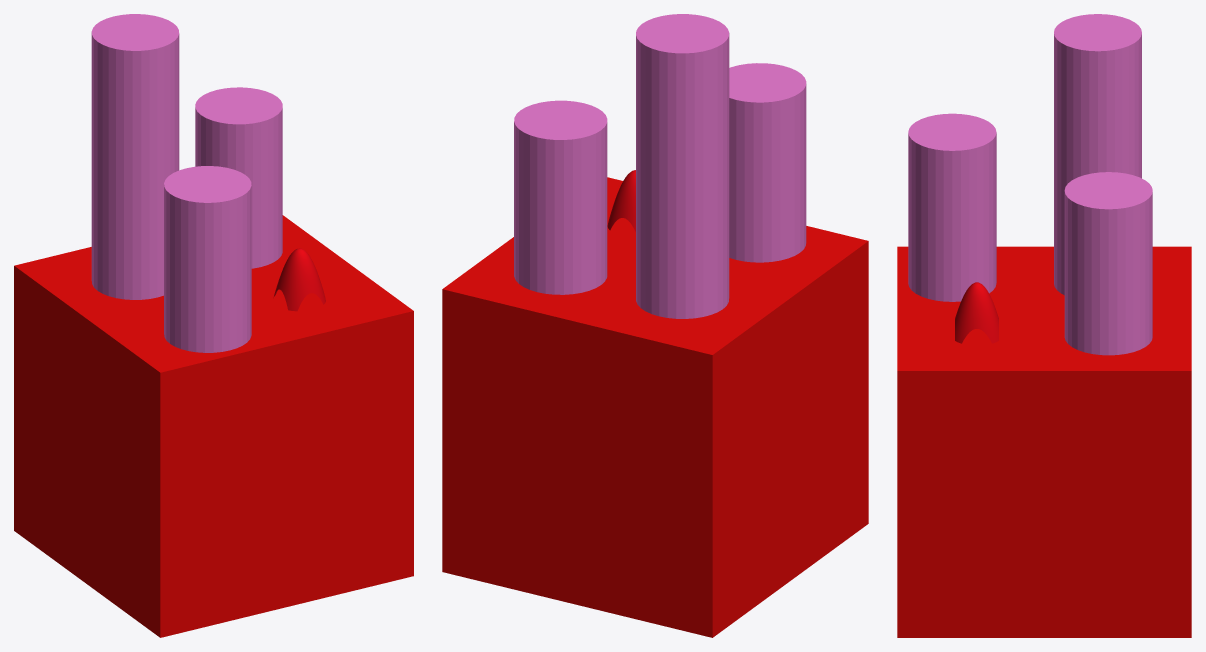
The model's file is redpower.glb.
3 views of the same model, side by side, from view 1: azimuth 30°, elevation 25°; view 2: azimuth 150°, elevation 25°; view 3: azimuth 270°, elevation 25° (orthographic). The views are drawn at different scales.
Parts seen in each view (by area): view 1: Cube, Cylinder, Cylinder.001, Cylinder.002, SurfPatch; view 2: Cube, Cylinder, Cylinder.002, Cylinder.001, SurfPatch; view 3: Cube, Cylinder.001, Cylinder.002, Cylinder, SurfPatch.
Part boxes in pixels (bbox=[...]): Cube: bbox=[14, 215, 413, 637]; Cylinder: bbox=[91, 14, 179, 299]; Cylinder.001: bbox=[164, 166, 251, 352]; Cylinder.002: bbox=[195, 87, 282, 268]; SurfPatch: bbox=[273, 248, 325, 311]; Cube: bbox=[442, 177, 868, 637]; Cylinder: bbox=[636, 14, 729, 318]; Cylinder.002: bbox=[514, 100, 607, 294]; Cylinder.001: bbox=[729, 63, 806, 262]; SurfPatch: bbox=[607, 170, 635, 231]; Cube: bbox=[897, 246, 1191, 637]; Cylinder.001: bbox=[908, 113, 996, 301]; Cylinder.002: bbox=[1064, 172, 1152, 355]; Cylinder: bbox=[1054, 14, 1141, 295]; SurfPatch: bbox=[955, 282, 998, 343].
Bounding box in the file's own units: 6.68 × 12.94 × 6.68.
